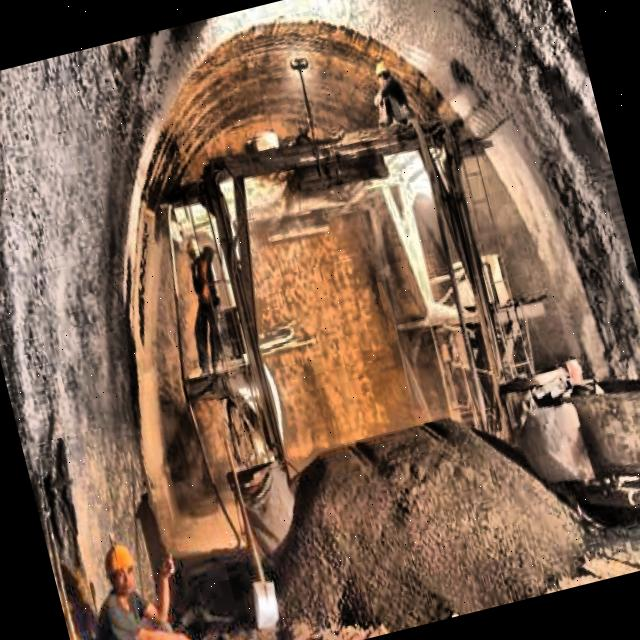helmet: (101, 538, 141, 600), (372, 53, 398, 90), (183, 235, 204, 267)
